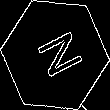N_SW: (27, 26, 83, 84)
